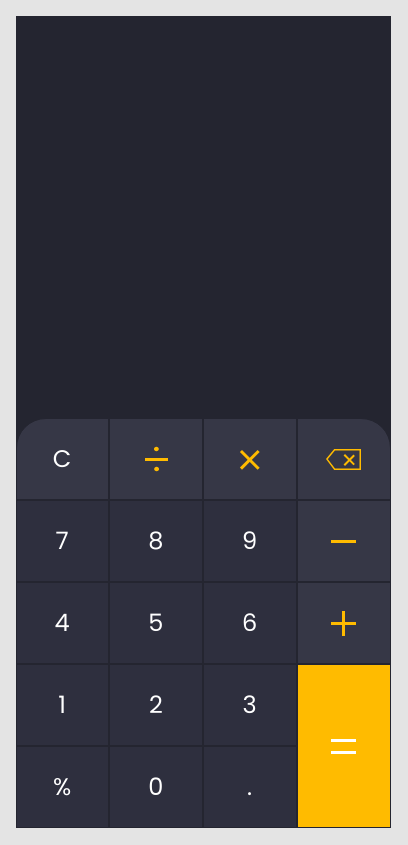
Test: Calculator renders correctly the result › 2 + 3 = 5
The width and height of the screenshot is (408, 845).
What coordinates should you click on to do the following:
click the button with test id "button-number-2"
I would click on:
 (156, 705)
Its box is [109, 664, 203, 746].
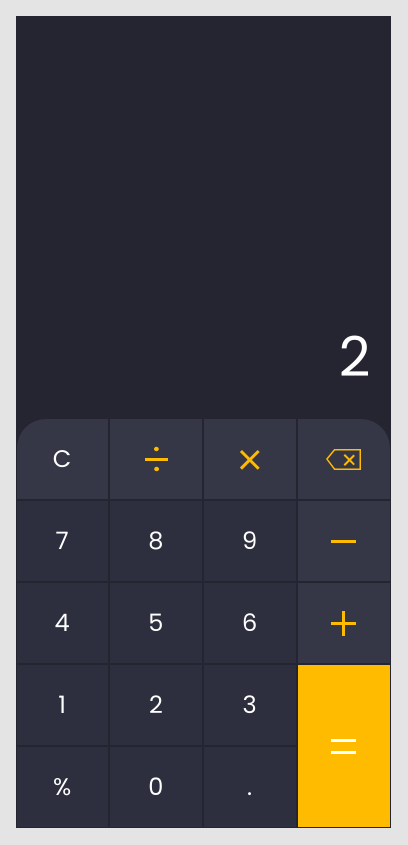
What coordinates should you click on to do the following:
click the button with test id "button-operator-plus"
I would click on:
 (344, 623)
Its box is [297, 582, 391, 664].
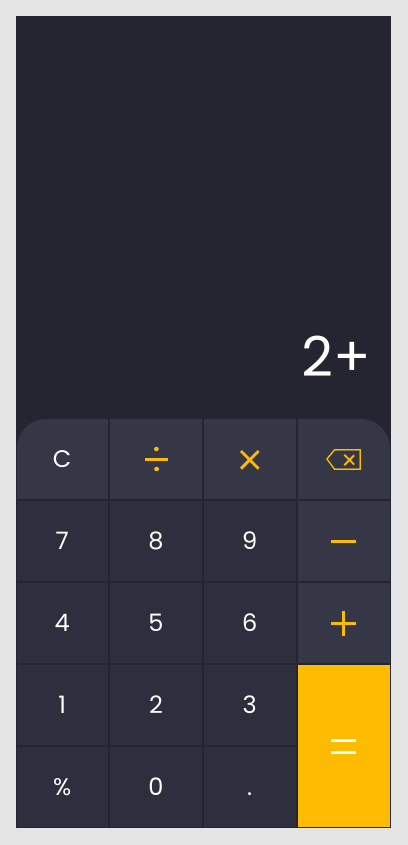
What coordinates should you click on to do the following:
click the button with test id "button-number-3"
I would click on:
 (250, 705)
Its box is [203, 664, 297, 746].
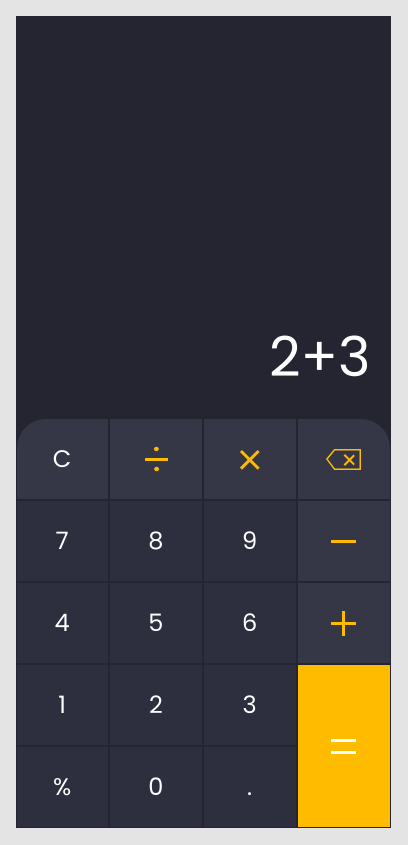
What coordinates should you click on to do the following:
click the button with test id "button-equals"
I would click on:
 (344, 746)
Its box is [297, 664, 391, 828].
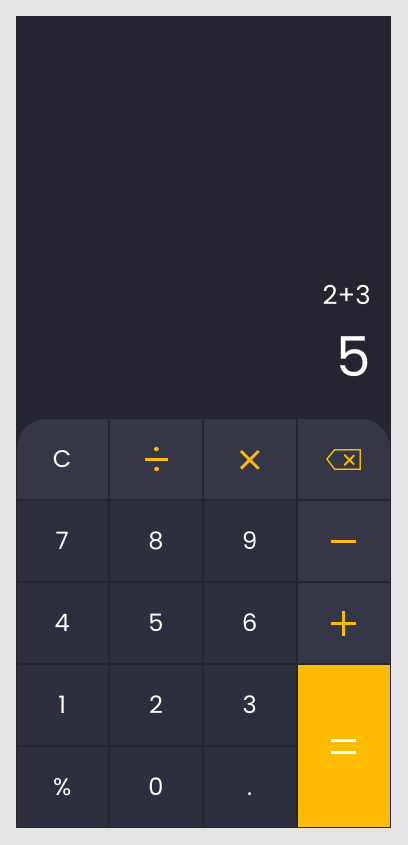
Check: the text with test id "display__result" reads "5", box [336, 318, 370, 395]
